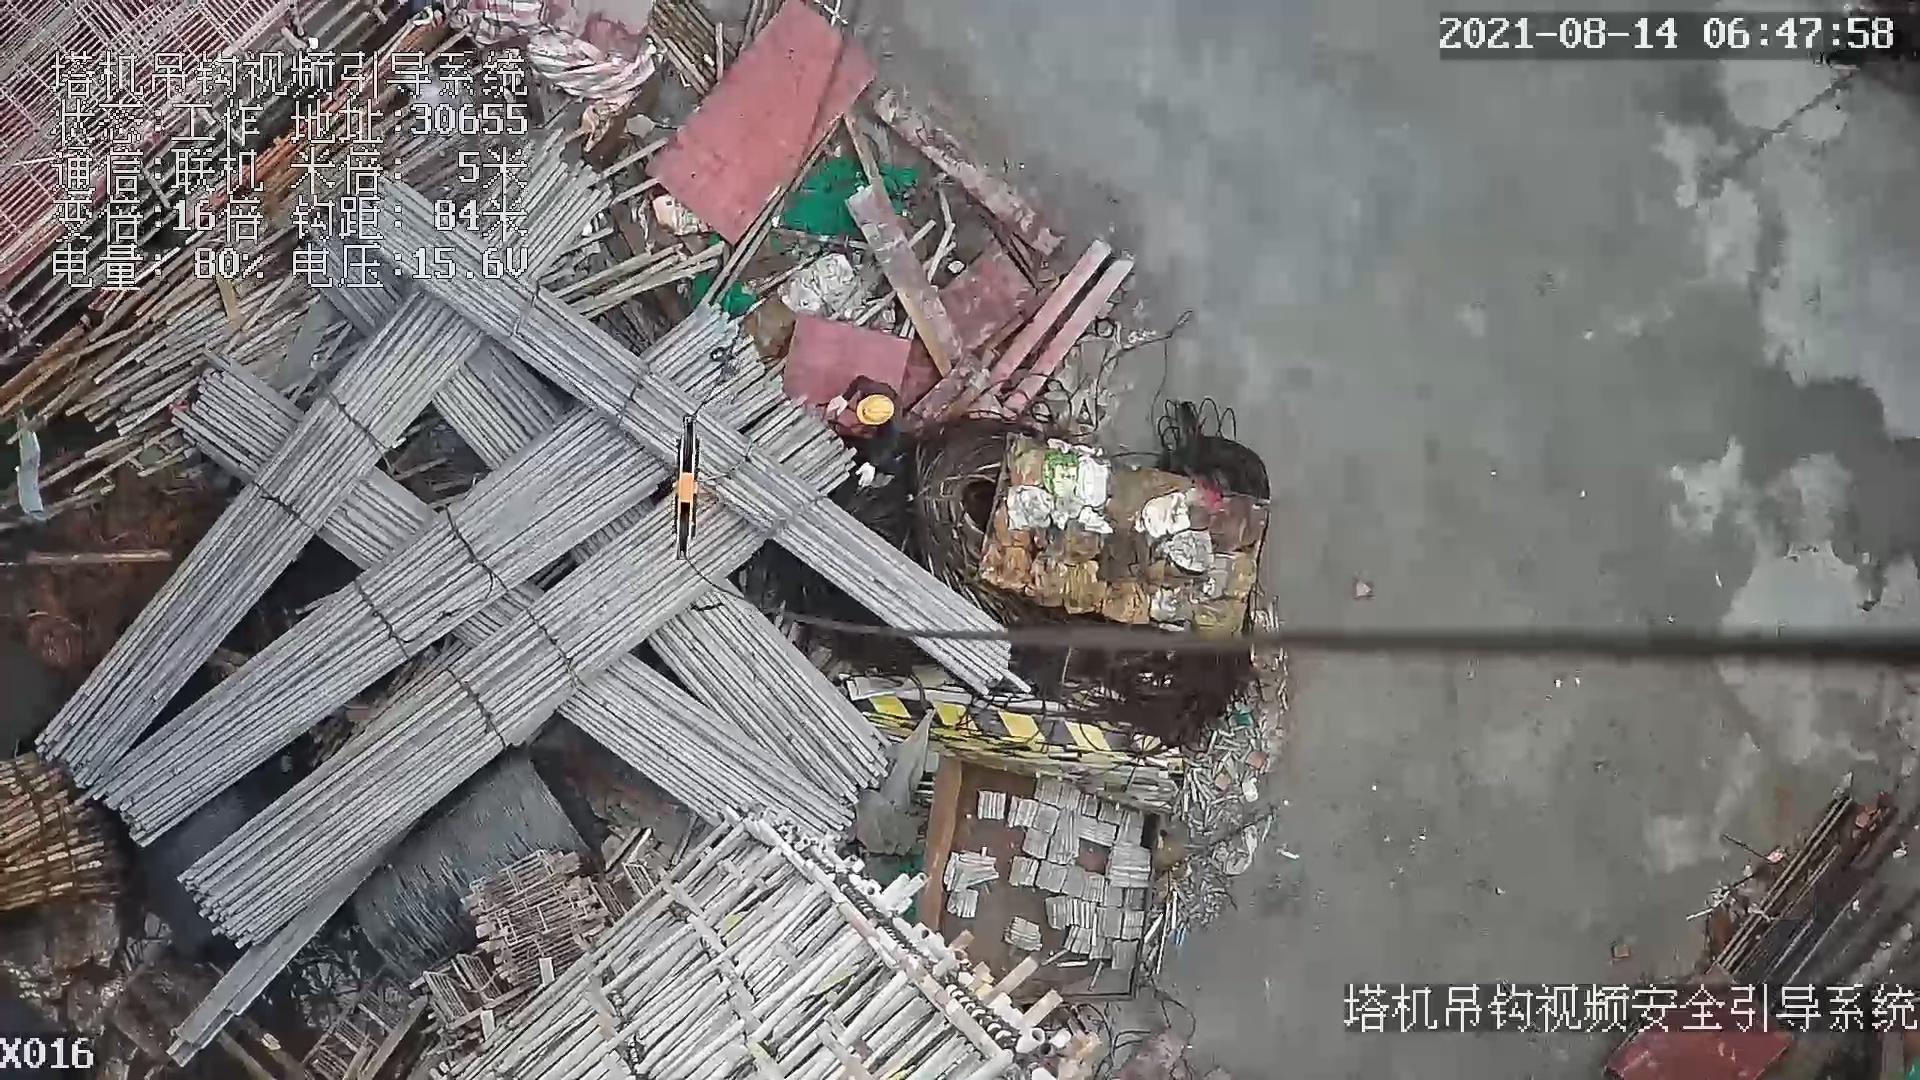board: (643, 1, 885, 253)
helmet: (858, 394, 896, 424)
hook: (665, 409, 705, 571)
person: (819, 374, 900, 492)
scaffold: (1, 755, 129, 904)
